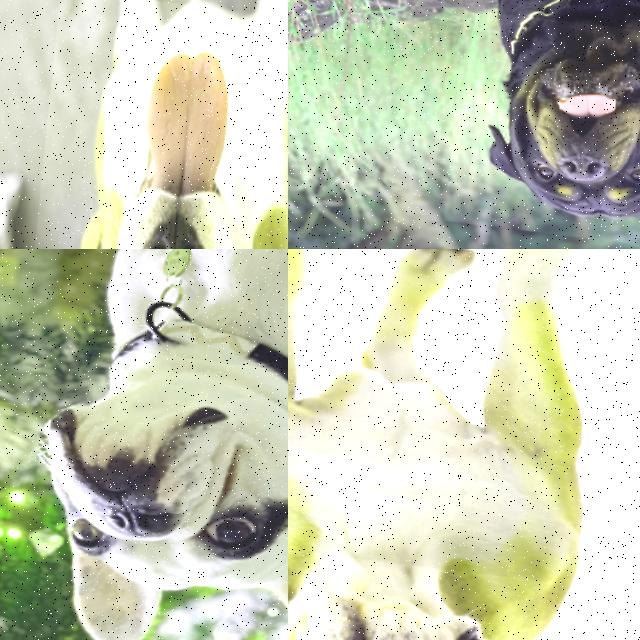beagle: (0, 0, 288, 249)
bulldog: (0, 325, 288, 640), (288, 522, 562, 640)
rottweiler: (423, 0, 640, 249)
